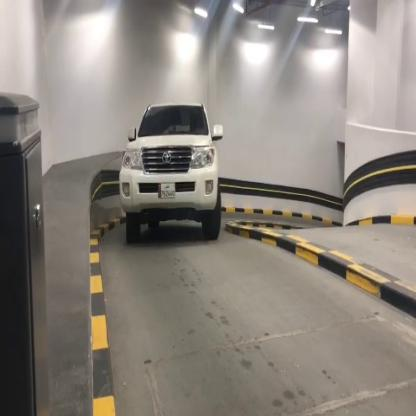np: (158, 181, 178, 201)
